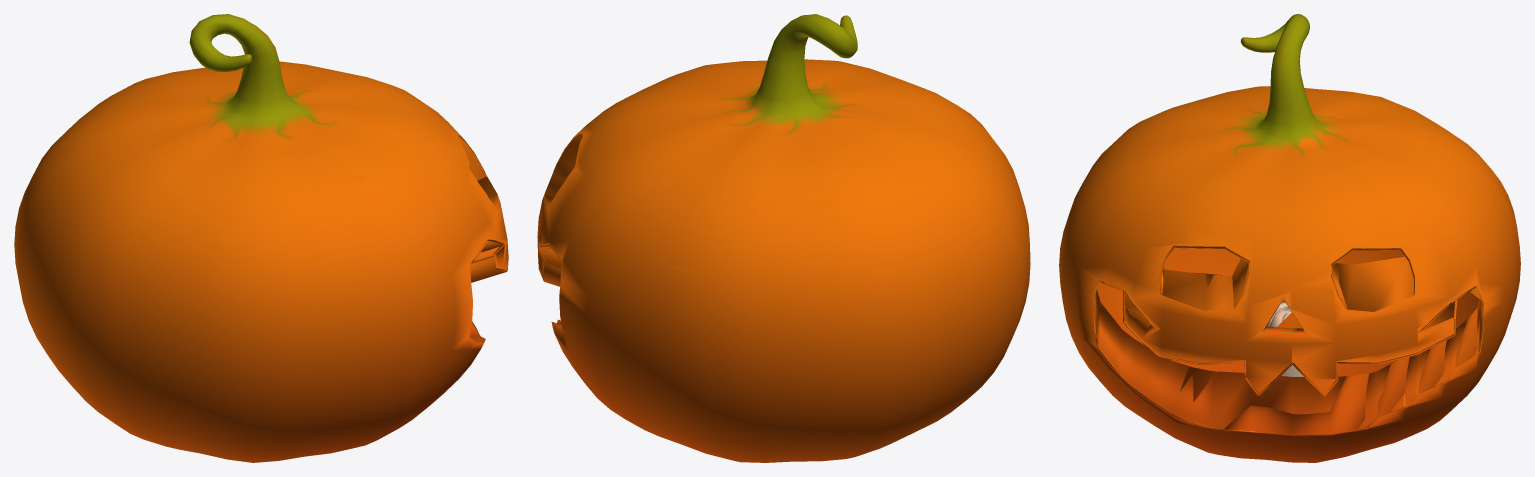
The model's file is PumpkinAlt.fbx.
The picture shows the model from 3 angles, left to right: view 1: azimuth 30°, elevation 25°; view 2: azimuth 150°, elevation 25°; view 3: azimuth 270°, elevation 25°; orthographic projection. The views are drawn at different scales.
Parts seen in each view (by area): view 1: Sphere.002; view 2: Sphere.002; view 3: Sphere.002, Cylinder.001.
Part boxes in pixels (x1=…): Sphere.002: x1=14, y1=14, x2=508, y2=462; Sphere.002: x1=537, y1=14, x2=1030, y2=462; Sphere.002: x1=1059, y1=14, x2=1520, y2=462; Cylinder.001: x1=1266, y1=300, x2=1303, y2=376.
Size of the model in its own units: 198 by 184 by 198.
3 materials, 1 textured.
